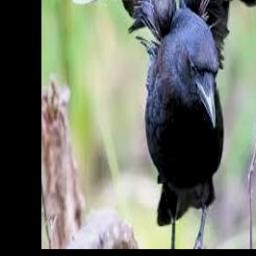Crow: (68, 0, 256, 249)
